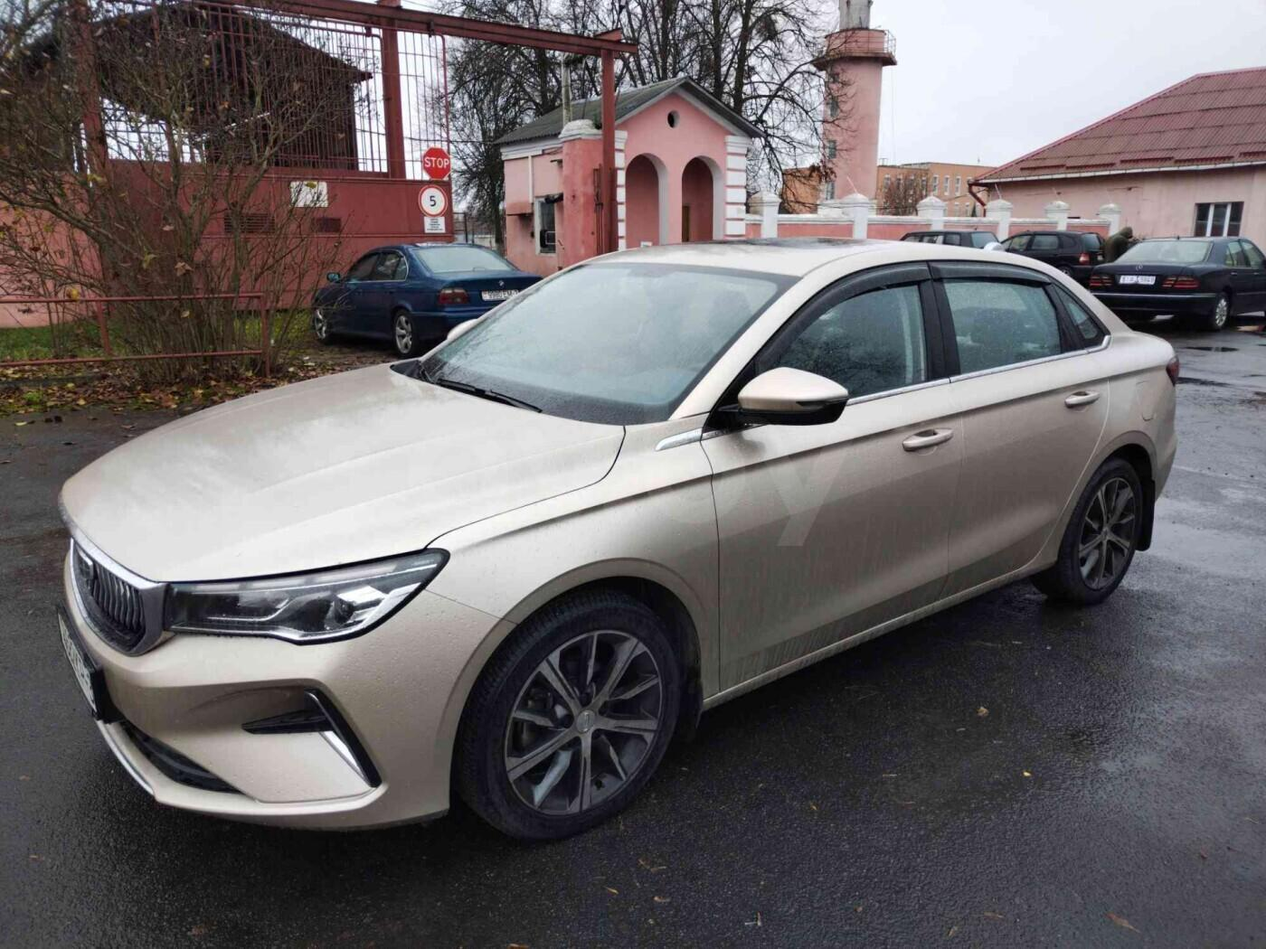Emgrand_2021: (37, 226, 1179, 860)
